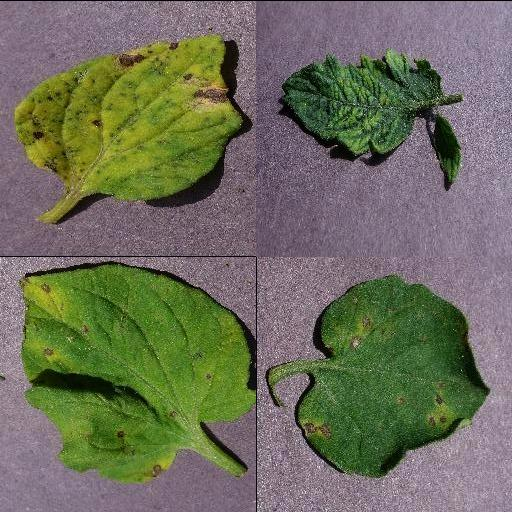Mosaic Virus: (282, 47, 444, 155), (432, 119, 462, 187)
Septoria: (20, 262, 256, 480), (297, 276, 491, 479), (19, 35, 243, 199)
